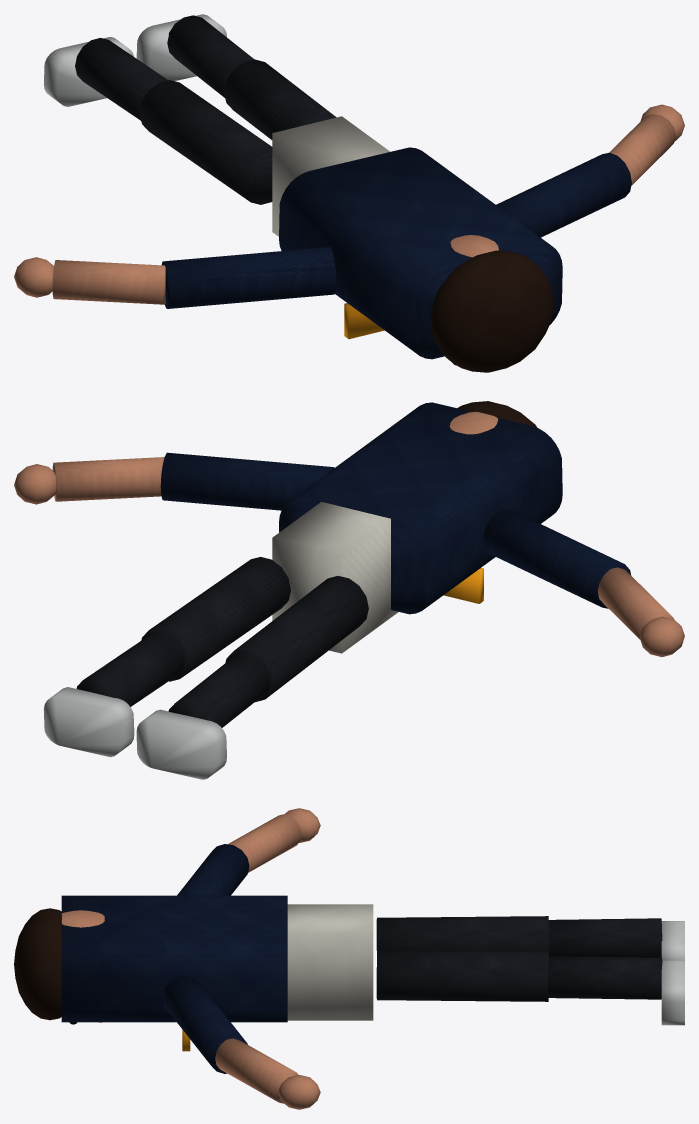
File: CHAR_RECEPTIONIST_001.glb
3 renders of one model, top to bottom at view 1: azimuth 30°, elevation 25°; view 2: azimuth 150°, elevation 25°; view 3: azimuth 270°, elevation 25°, orthographic. The views are drawn at different scales.
Visible parts, largest first — view 1: torso_jacket_003, hair_cap_001, thigh_012, upper_arm_006, upper_arm_009, shirt_panel_004, thigh_015, forearm_007, shin_013, shin_016, forearm_010, shoe_014 (+5 smaller); view 2: torso_jacket_003, shirt_panel_004, thigh_015, thigh_012, upper_arm_009, upper_arm_006, shoe_014, shoe_017, shin_016, forearm_010, shin_013, forearm_007 (+5 smaller); view 3: torso_jacket_003, shirt_panel_004, thigh_015, thigh_012, shin_016, hair_cap_001, shin_013, upper_arm_009, forearm_010, upper_arm_006, forearm_007, shoe_017 (+4 smaller).
Part boxes in pixels (x1,y1,x2,y2): torso_jacket_003: [279, 147, 562, 359]; hair_cap_001: [430, 250, 553, 372]; thigh_012: [139, 80, 272, 204]; upper_arm_006: [161, 247, 336, 308]; upper_arm_009: [496, 152, 631, 237]; shirt_panel_004: [272, 116, 390, 236]; thigh_015: [224, 59, 336, 139]; forearm_007: [52, 260, 165, 304]; shin_013: [75, 38, 167, 120]; shin_016: [167, 15, 254, 97]; forearm_010: [609, 114, 675, 185]; shoe_014: [44, 37, 133, 106]; torso_jacket_003: [279, 402, 562, 614]; shirt_panel_004: [272, 502, 398, 653]; thigh_015: [141, 557, 290, 681]; thigh_012: [225, 576, 368, 702]; upper_arm_009: [160, 452, 334, 510]; upper_arm_006: [483, 509, 631, 608]; shoe_014: [136, 709, 226, 779]; shoe_017: [43, 687, 134, 757]; shin_016: [76, 632, 184, 706]; forearm_010: [52, 457, 164, 501]; shin_013: [168, 652, 270, 727]; forearm_007: [598, 567, 673, 639]; torso_jacket_003: [61, 895, 287, 1022]; shirt_panel_004: [287, 904, 373, 1020]; thigh_015: [376, 950, 548, 1001]; thigh_012: [376, 916, 549, 955]; shin_016: [548, 956, 662, 999]; hair_cap_001: [14, 908, 61, 1020]; shin_013: [548, 918, 662, 957]; upper_arm_009: [162, 975, 247, 1073]; forearm_010: [215, 1038, 298, 1103]; upper_arm_006: [177, 844, 249, 895]; forearm_007: [228, 814, 301, 872]; shoe_017: [661, 960, 684, 1025].
Size of the model in its own units: 1.72 by 0.3078 by 1.72.
Materials: 9 (9 with a texture image).
